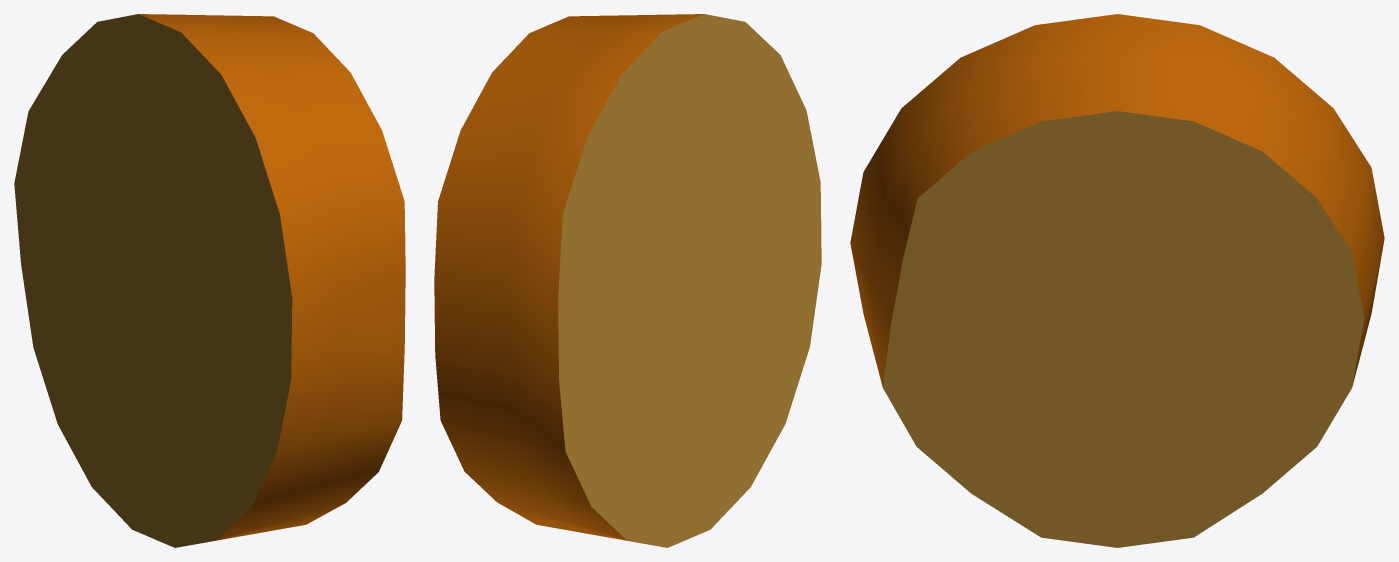
File: mesh_CarrotSlice_Stage11.fbx
3 views of the same model, side by side, from view 1: azimuth 30°, elevation 25°; view 2: azimuth 150°, elevation 25°; view 3: azimuth 270°, elevation 25° (orthographic).
Parts seen in each view (by area): view 1: mesh_CarrotSlice_Stage11; view 2: mesh_CarrotSlice_Stage11; view 3: mesh_CarrotSlice_Stage11.
Boxes of the visible parts, <box> form: mesh_CarrotSlice_Stage11: <box>14,14,405,547</box>; mesh_CarrotSlice_Stage11: <box>434,14,821,547</box>; mesh_CarrotSlice_Stage11: <box>850,14,1384,547</box>.
Size of the model in its own units: 0.0198 by 0.0519 by 0.051.
